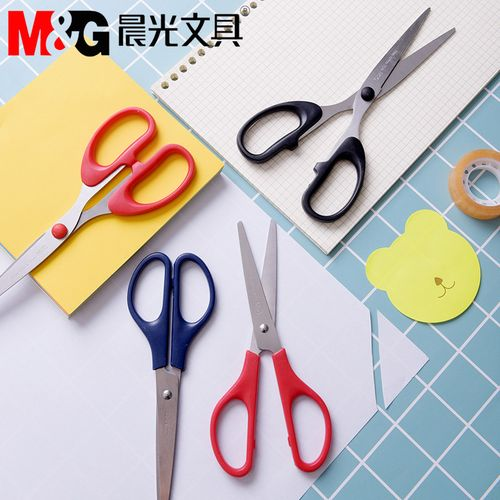scissor: (237, 7, 456, 221), (210, 217, 330, 478), (127, 252, 218, 500)
